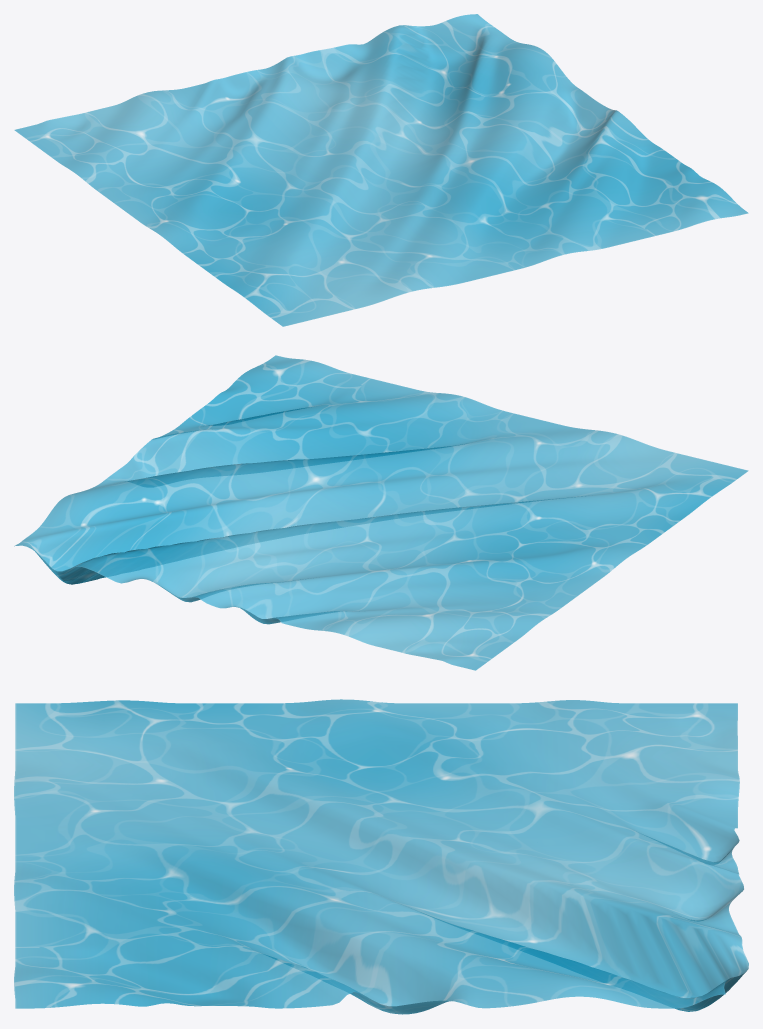
File: ground.gltf
3 views of the same model, one above another, from view 1: azimuth 30°, elevation 25°; view 2: azimuth 150°, elevation 25°; view 3: azimuth 270°, elevation 25° (orthographic). The views are drawn at different scales.
Visible parts, largest first — view 1: Ocean; view 2: Ocean; view 3: Ocean.
Boxes of the visible parts, x1,y1,x2,y2 form: Ocean: [14, 14, 748, 326]; Ocean: [14, 355, 748, 670]; Ocean: [14, 699, 748, 1014].
Size of the model in its own units: 50.4 by 3.91 by 50.87.
1 material, 1 textured.
